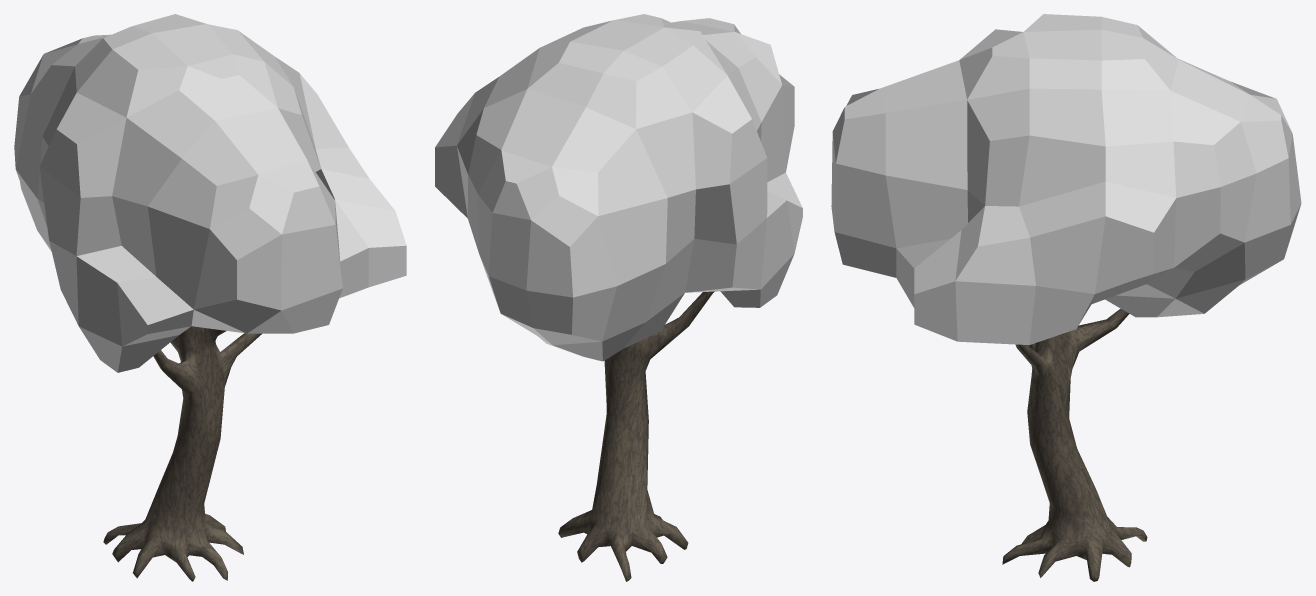
Rendered from tree.glb.
3 views of the same model, side by side, from view 1: azimuth 30°, elevation 25°; view 2: azimuth 150°, elevation 25°; view 3: azimuth 270°, elevation 25° (orthographic). The views are drawn at different scales.
Parts seen in each view (by area): view 1: foliage, trunk; view 2: foliage, trunk; view 3: foliage, trunk.
Boxes of the visible parts, x1,y1,x2,y2 form: foliage: (14,14,406,372); trunk: (103,326,261,581); foliage: (435,14,802,361); trunk: (558,291,714,581); foliage: (831,14,1301,344); trunk: (1002,308,1147,581).
Size of the model in its own units: 3.01 by 5.25 by 4.27.
Materials: 1 (1 with a texture image).
